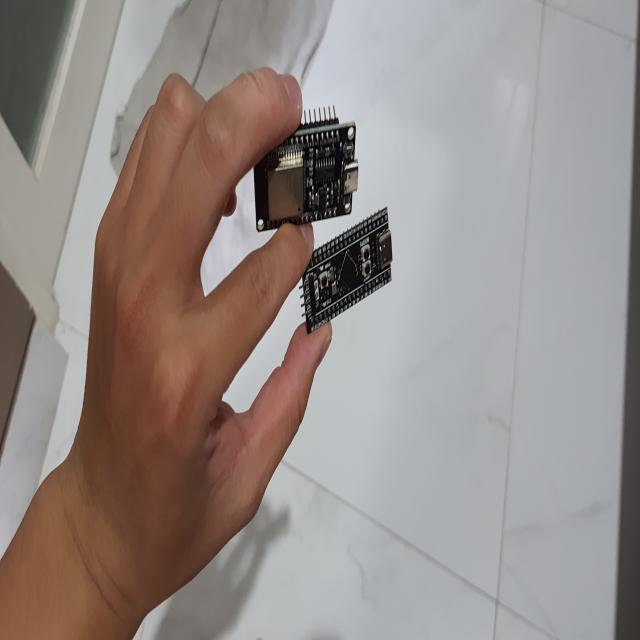ESP32: (255, 109, 359, 231)
STM32: (299, 204, 395, 337)
